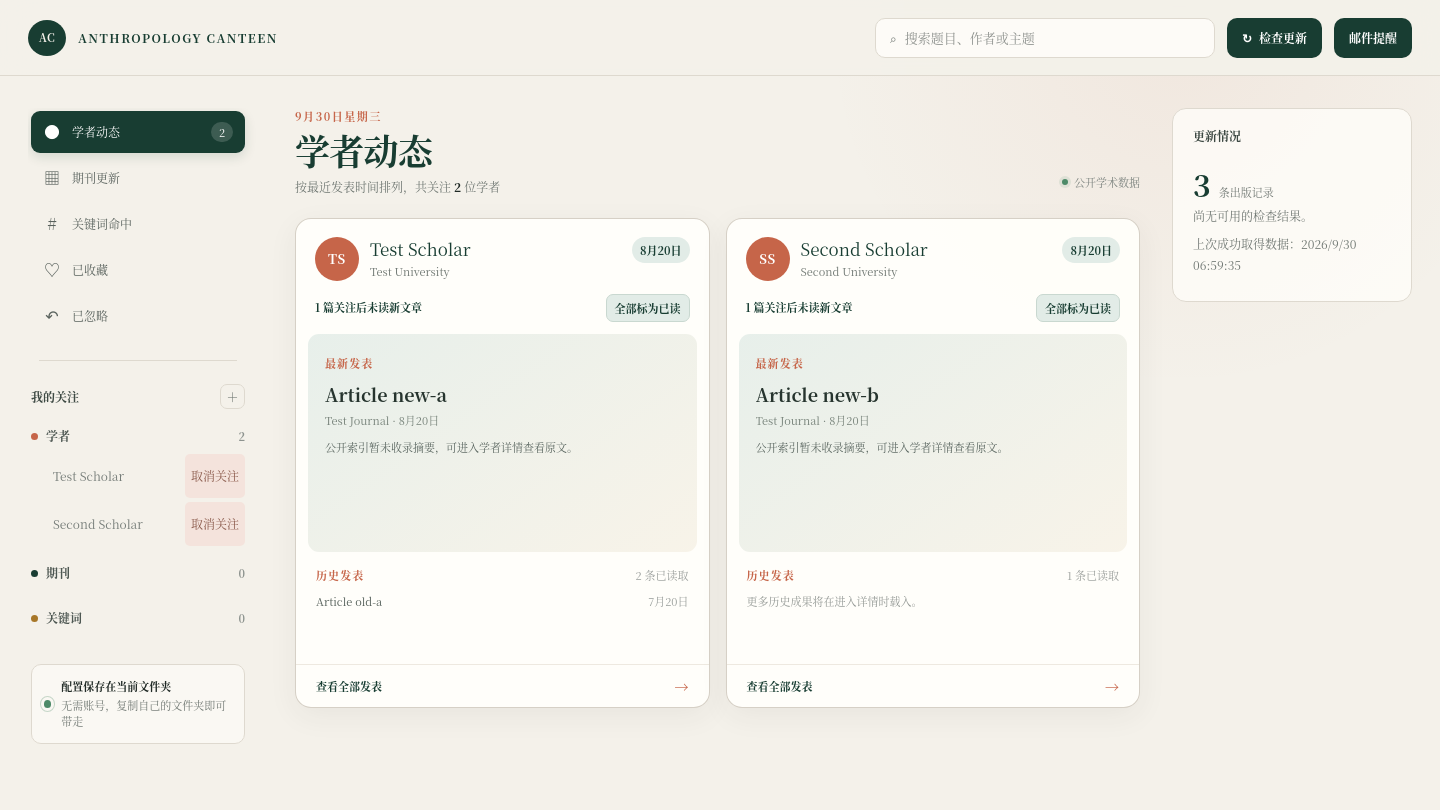
Slice B navigation and update health › scholar cards expose scoped new counts and batch read actions
Expected: the text "1 篇关注后未读新文章" below "Test University" is shown, [315,299,422,315]
Click the button with aria-label "将 Test Scholar 的 1 篇新文章全部标为已读". click: {"x": 648, "y": 308}
box: [606,294,690,322]
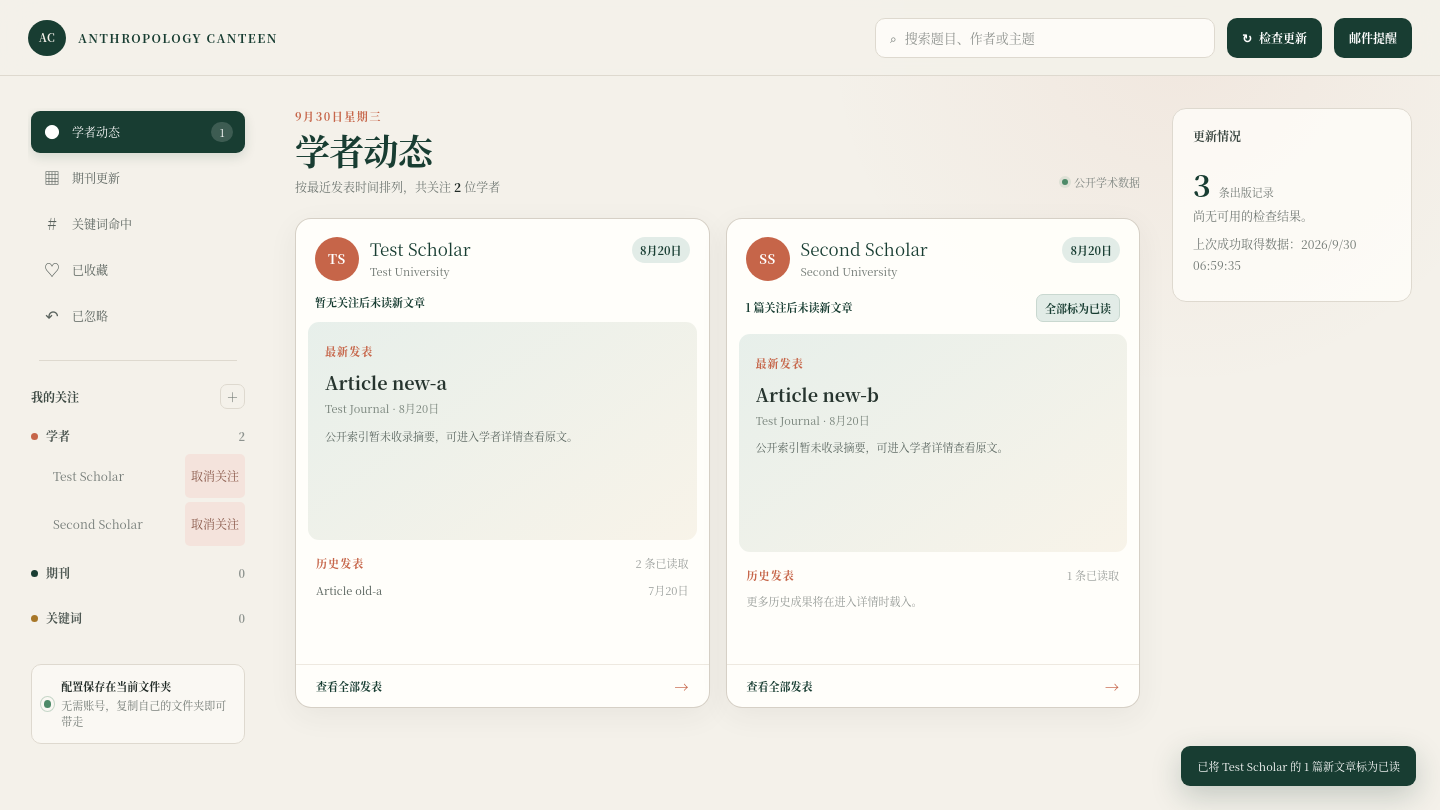
Expected: the text "暂无关注后未读新文章" is shown, [315,294,425,310]
